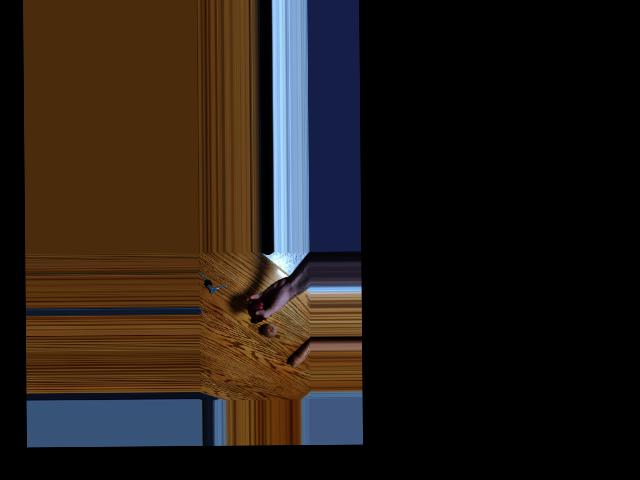onion: (262, 318, 280, 339)
